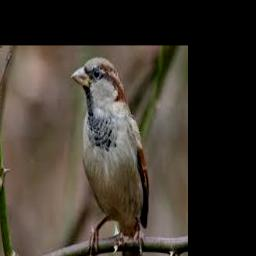Sparrow: (71, 57, 148, 256)
